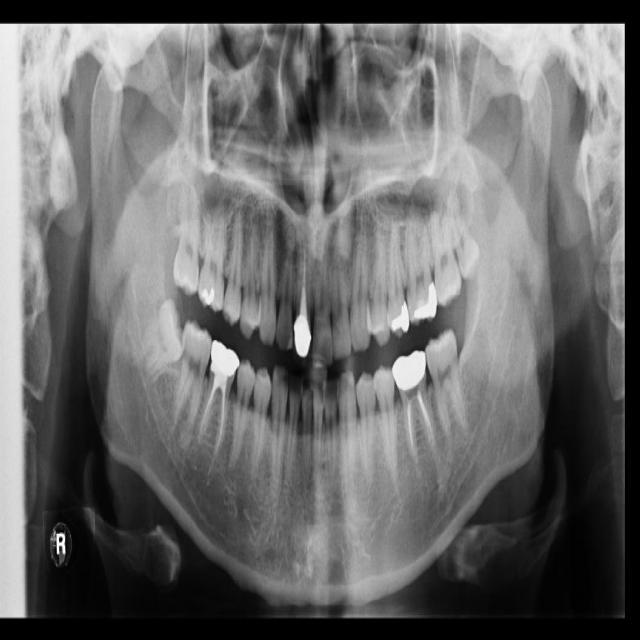52: (387, 347, 436, 397), (201, 340, 244, 387), (406, 278, 438, 327), (197, 259, 224, 311), (385, 298, 411, 339), (293, 313, 312, 366)
73: (193, 375, 235, 456), (398, 385, 440, 465), (295, 236, 313, 314), (585, 564, 593, 566)
BioHorizons Implant: (428, 193, 463, 307)
BioLife Implant: (442, 190, 486, 282)
Blue Sky Bio Implant: (422, 327, 471, 439)
Caries: (173, 182, 201, 296)
Implant: (164, 318, 216, 433)
Keystone Dental Implant: (137, 298, 189, 379)
